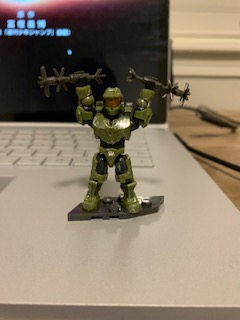chief: (70, 68, 156, 214)
spartan: (68, 66, 154, 212)
up: (72, 69, 155, 146)
